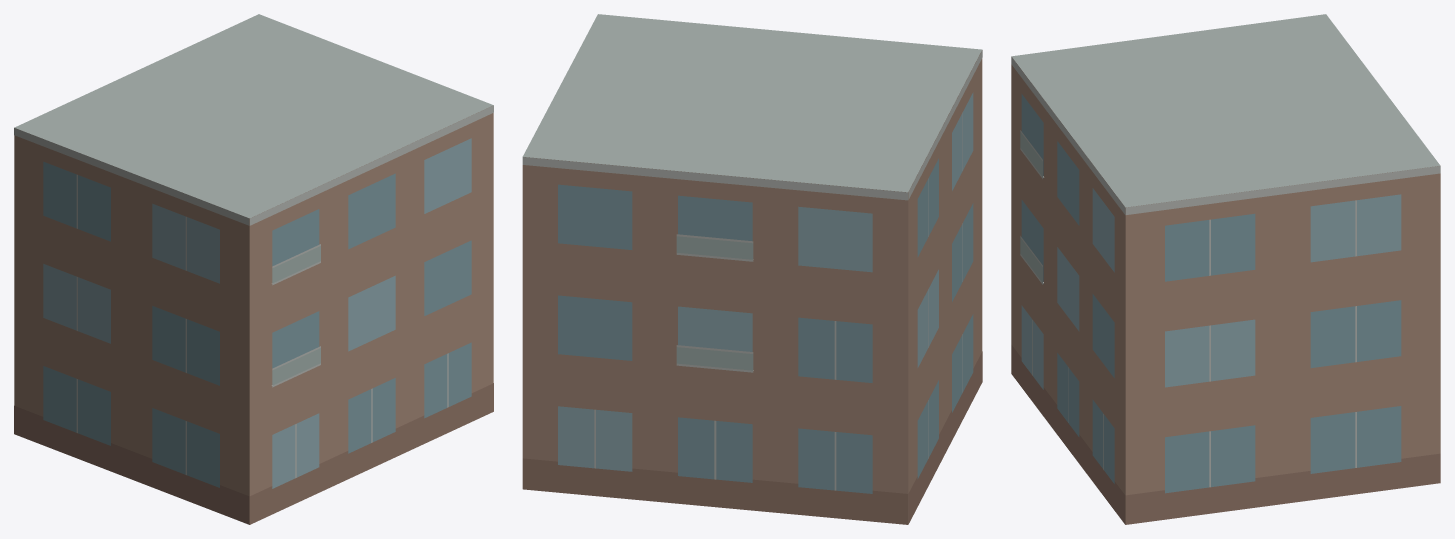
The model's file is survey-upis-32616977.glb.
3 views of the same model, side by side, from view 1: azimuth 30°, elevation 25°; view 2: azimuth 150°, elevation 25°; view 3: azimuth 270°, elevation 25° (orthographic). The views are drawn at different scales.
Visible parts, largest first — view 1: survey-upis-32616977.tmp; view 2: survey-upis-32616977.tmp; view 3: survey-upis-32616977.tmp.
Part boxes in pixels (x1,y1,x2,y2): survey-upis-32616977.tmp: [14, 14, 493, 524]; survey-upis-32616977.tmp: [522, 14, 982, 524]; survey-upis-32616977.tmp: [1011, 14, 1440, 524].
Size of the model in its own units: 13.08 by 10 by 12.27.
